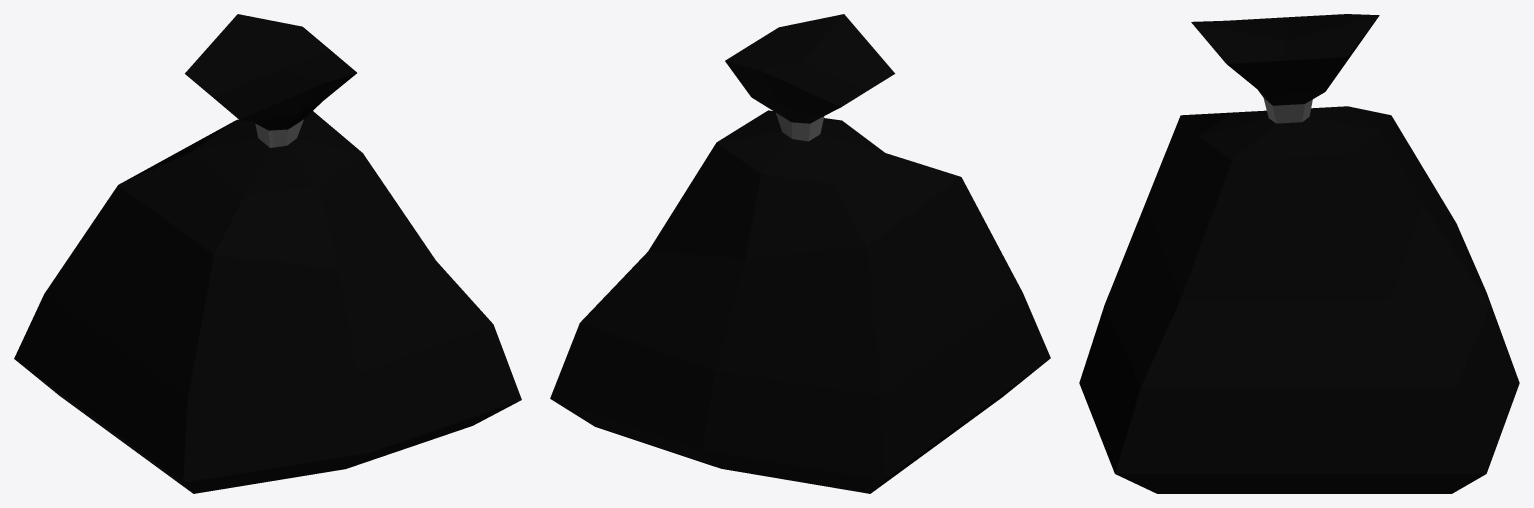
File: M_TrashBag.fbx
3 renders of one model, left to right at view 1: azimuth 30°, elevation 25°; view 2: azimuth 150°, elevation 25°; view 3: azimuth 270°, elevation 25°, orthographic. The views are drawn at different scales.
Parts seen in each view (by area): view 1: GarbageBag; view 2: GarbageBag; view 3: GarbageBag.
Boxes of the visible parts, x1,y1,x2,y2 form: GarbageBag: [14, 14, 521, 493]; GarbageBag: [550, 14, 1050, 493]; GarbageBag: [1079, 14, 1519, 493].
Bounding box in the file's own units: 379 × 396 × 388.
